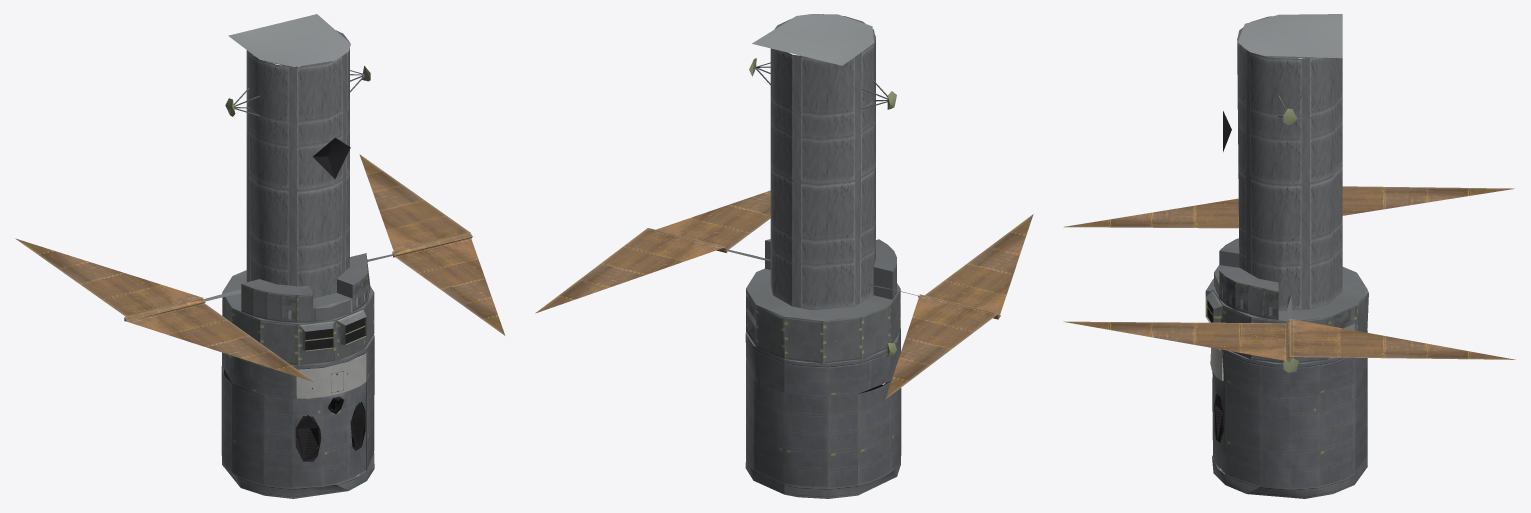
3 views of the same model, side by side, from view 1: azimuth 30°, elevation 25°; view 2: azimuth 150°, elevation 25°; view 3: azimuth 270°, elevation 25° (orthographic).
Visible parts, largest first — view 1: hst; view 2: hst; view 3: hst.
Part boxes in pixels (x1=…): hst: x1=15, y1=14, x2=505, y2=498; hst: x1=535, y1=14, x2=1033, y2=498; hst: x1=1063, y1=14, x2=1515, y2=498.
Size of the model in its own units: 455 by 519 by 497.
5 materials, 5 textured.
